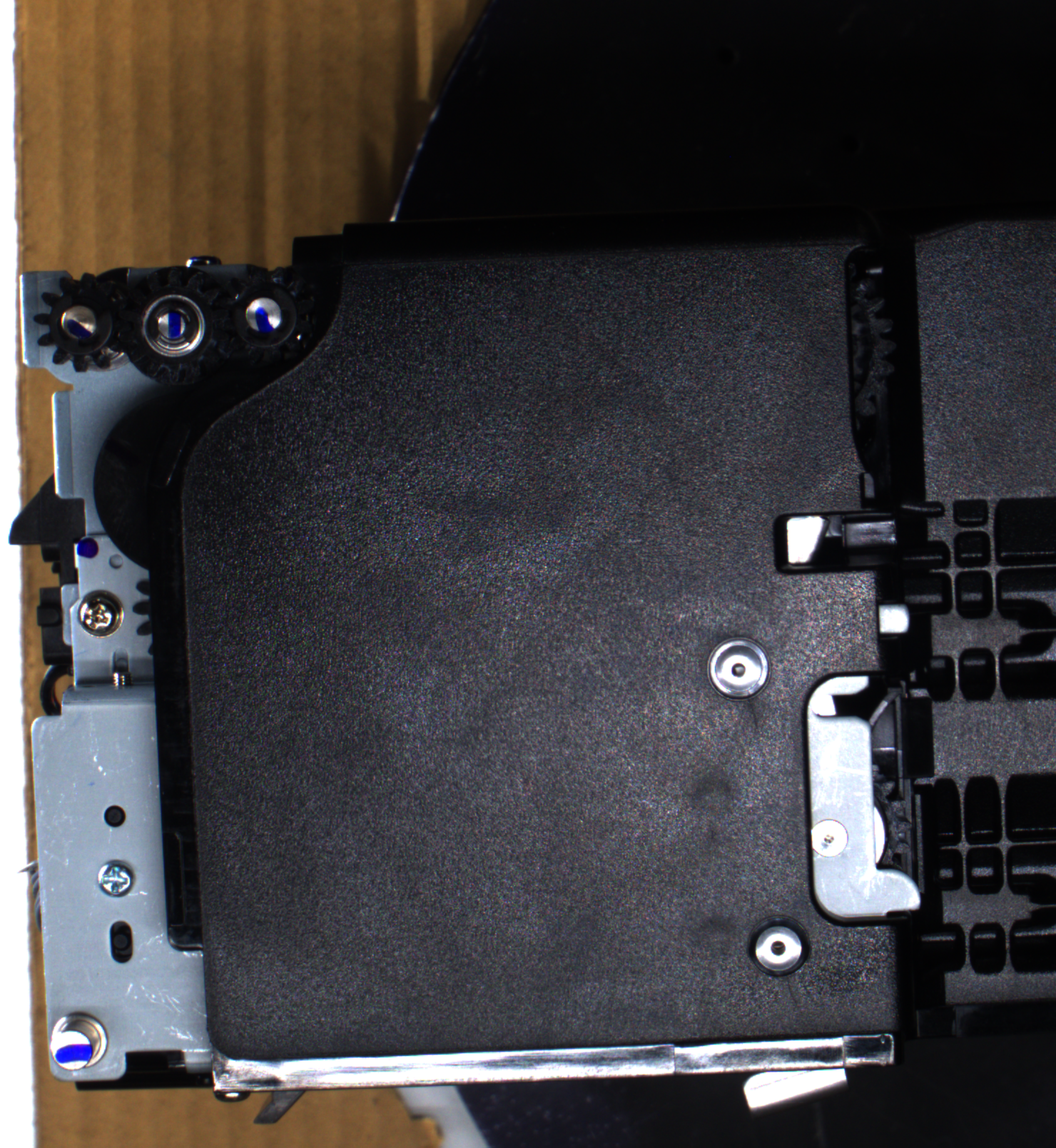centre_pin_presence: (737, 1046, 854, 1116)
centre_plate_presence: (800, 667, 930, 932)
centre_screw_presence: (704, 630, 776, 707), (743, 910, 813, 984)
gear1_presence: (33, 270, 133, 373)
gear2_presence: (118, 266, 229, 385)
gear3_presence: (211, 263, 314, 369)
side_screw_presence: (74, 588, 125, 638), (94, 856, 137, 899)
slanting_pin_presence: (45, 1008, 116, 1077)
